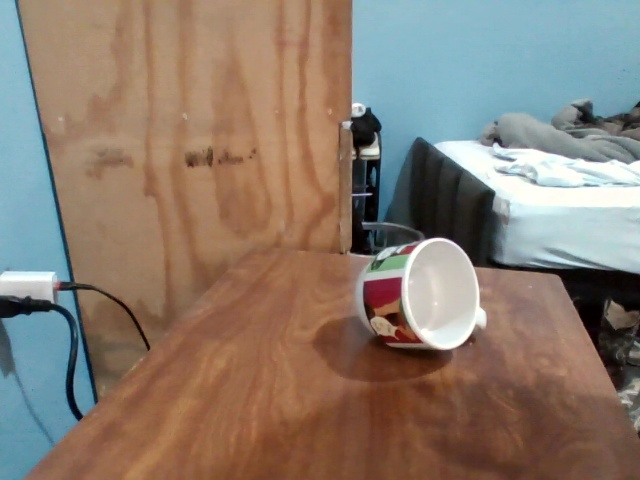taza: (363, 237, 483, 349)
